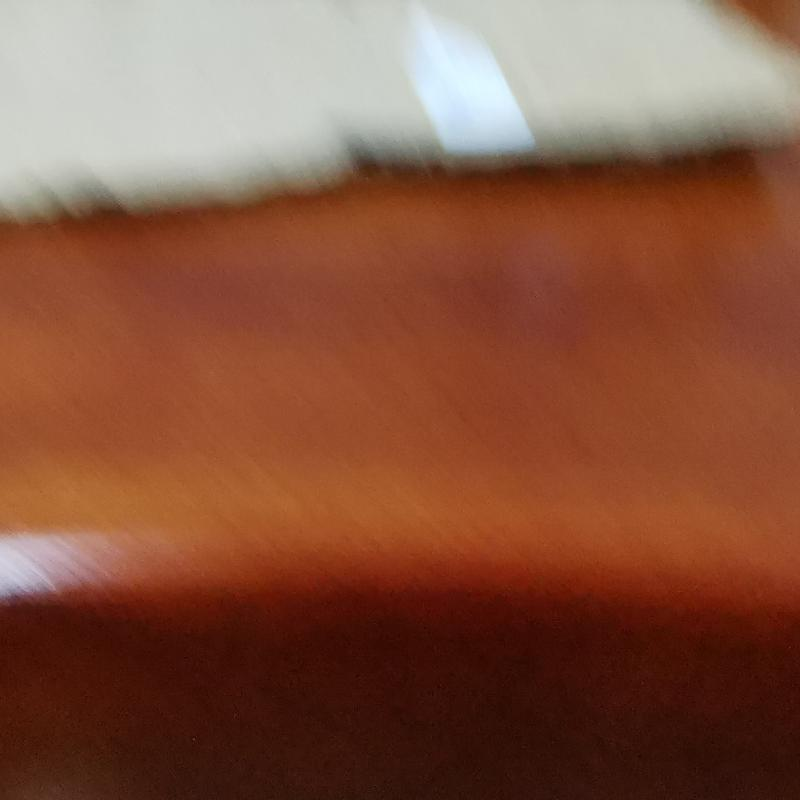boxes: (0, 0, 799, 221)
